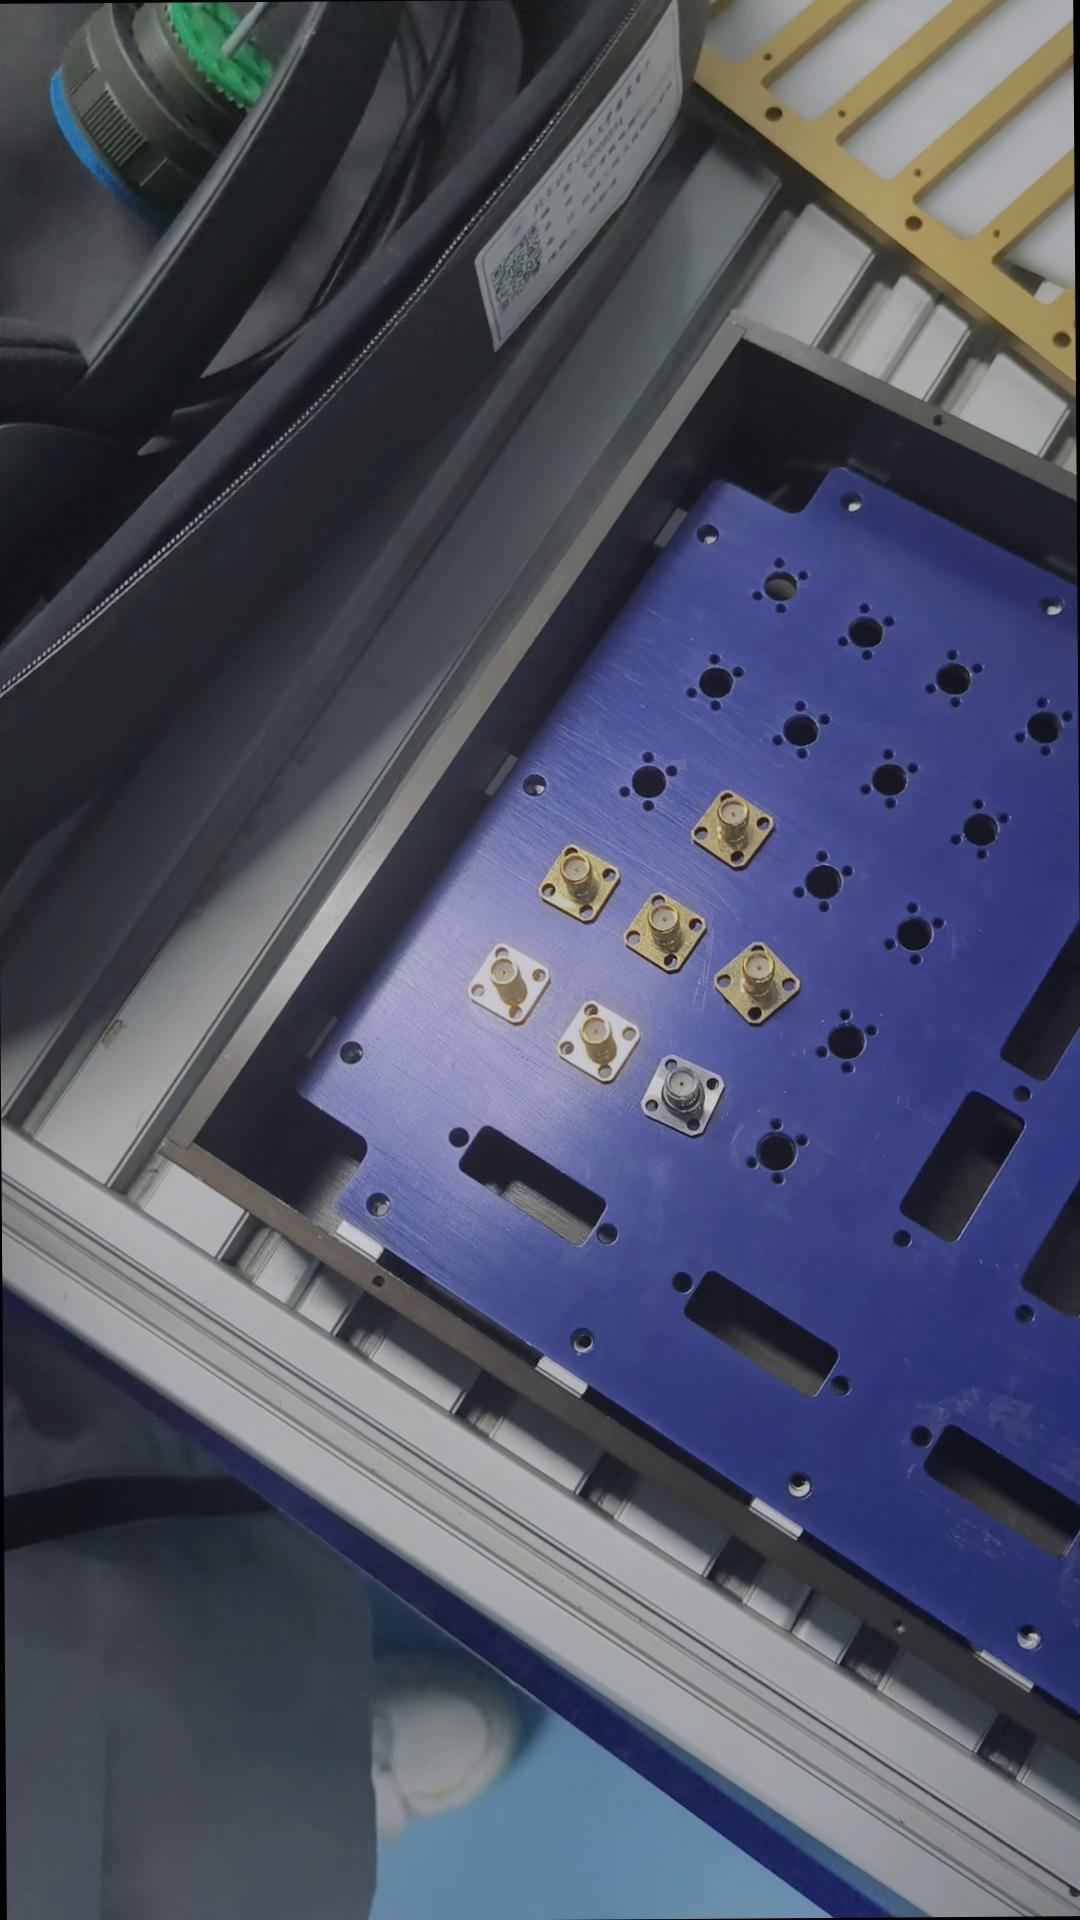SMA: (641, 1050, 728, 1143), (717, 940, 807, 1025), (630, 884, 711, 975), (691, 790, 778, 870), (564, 996, 645, 1083), (469, 939, 549, 1026), (545, 839, 624, 923)
